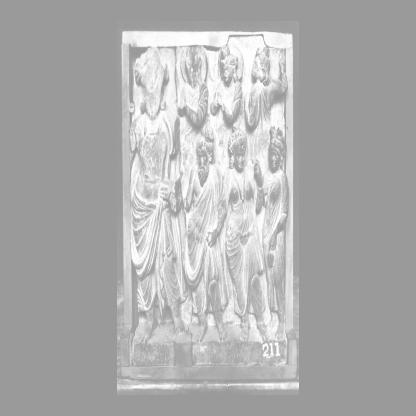buddha-standing: (130, 47, 184, 344)
